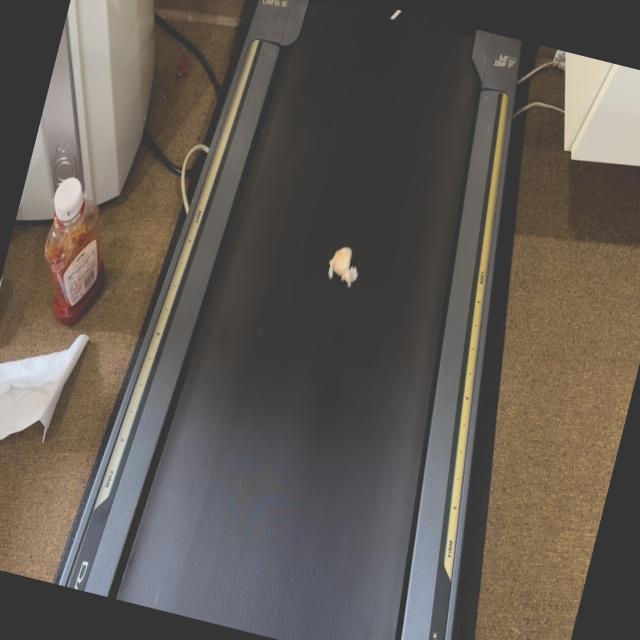Trash: (324, 243, 364, 290)
